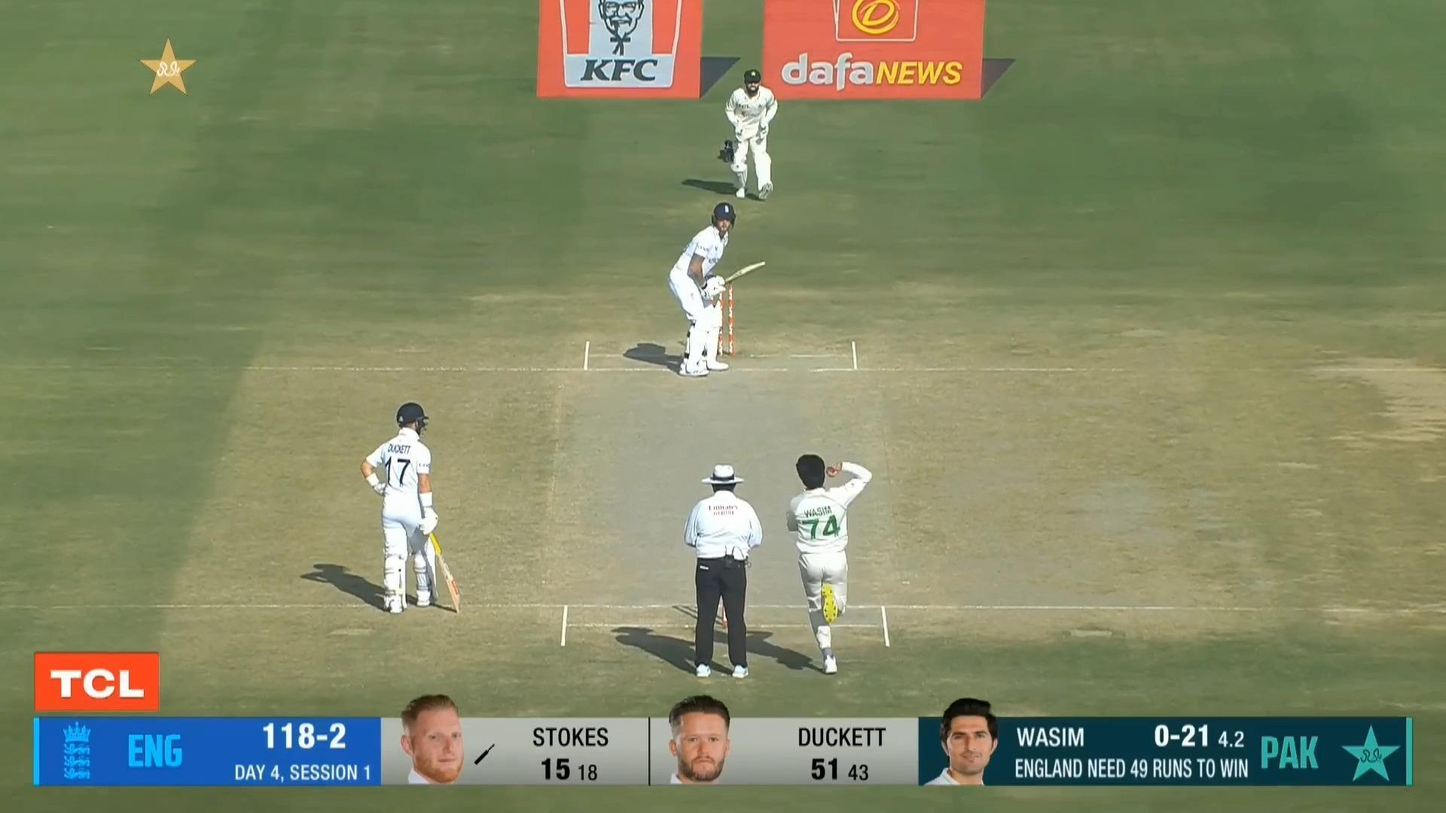BM 1: (668, 200, 767, 380)
BO: (787, 454, 872, 673)
